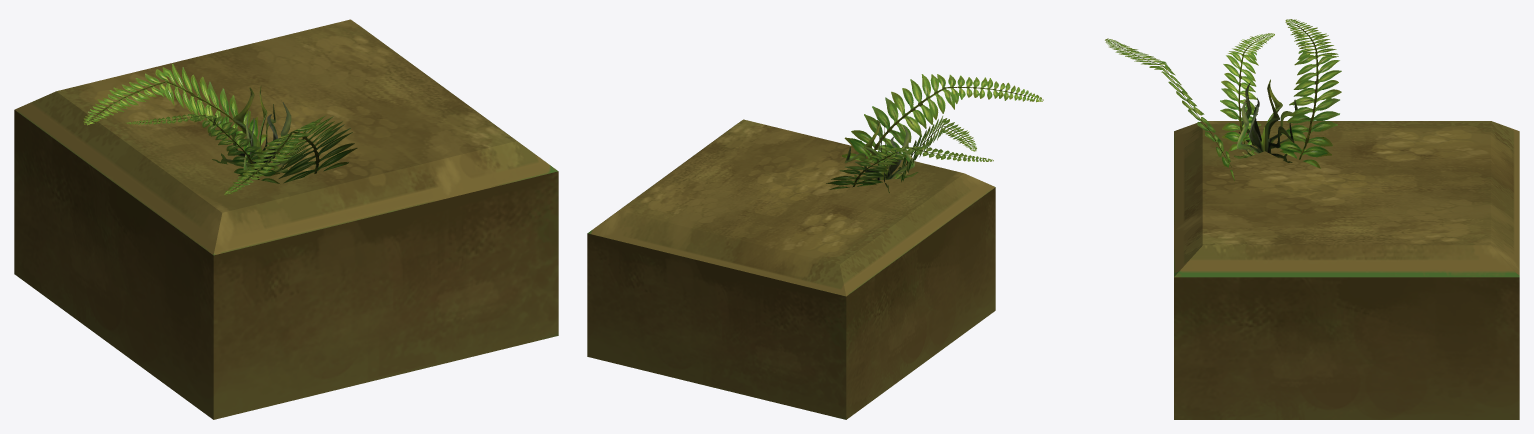
Rendered from tile_final6.FBX.
The picture shows the model from 3 angles, left to right: view 1: azimuth 30°, elevation 25°; view 2: azimuth 150°, elevation 25°; view 3: azimuth 270°, elevation 25°; orthographic projection. The views are drawn at different scales.
Parts seen in each view (by area): view 1: Prefab10; view 2: Prefab10; view 3: Prefab10.
Boxes of the visible parts, x1,y1,x2,y2 form: Prefab10: (14, 19, 558, 419); Prefab10: (587, 74, 1043, 419); Prefab10: (1105, 19, 1519, 419).
Size of the model in its own units: 30.47 by 21.93 by 31.44.
Materials: 2 (2 with a texture image).
